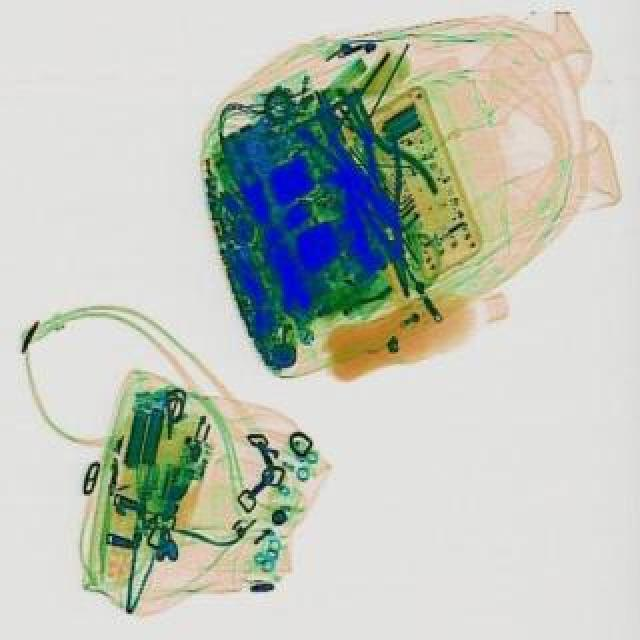wrench: (334, 138, 442, 308), (324, 88, 450, 222)
